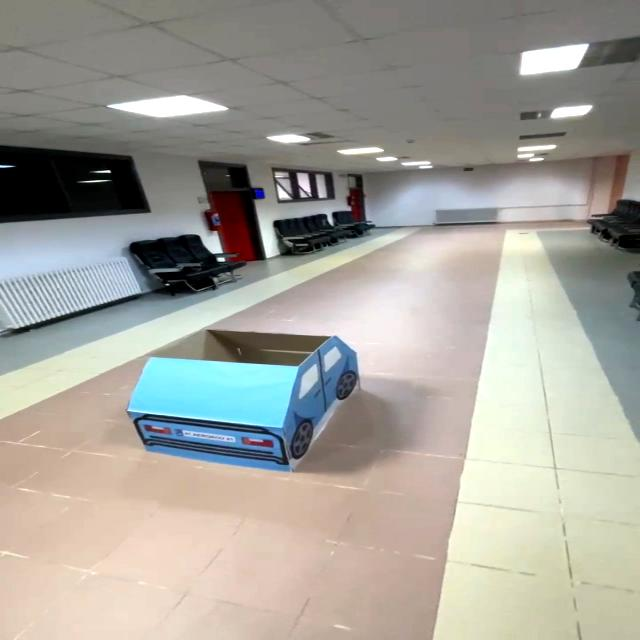blue_car: (91, 321, 390, 483)
